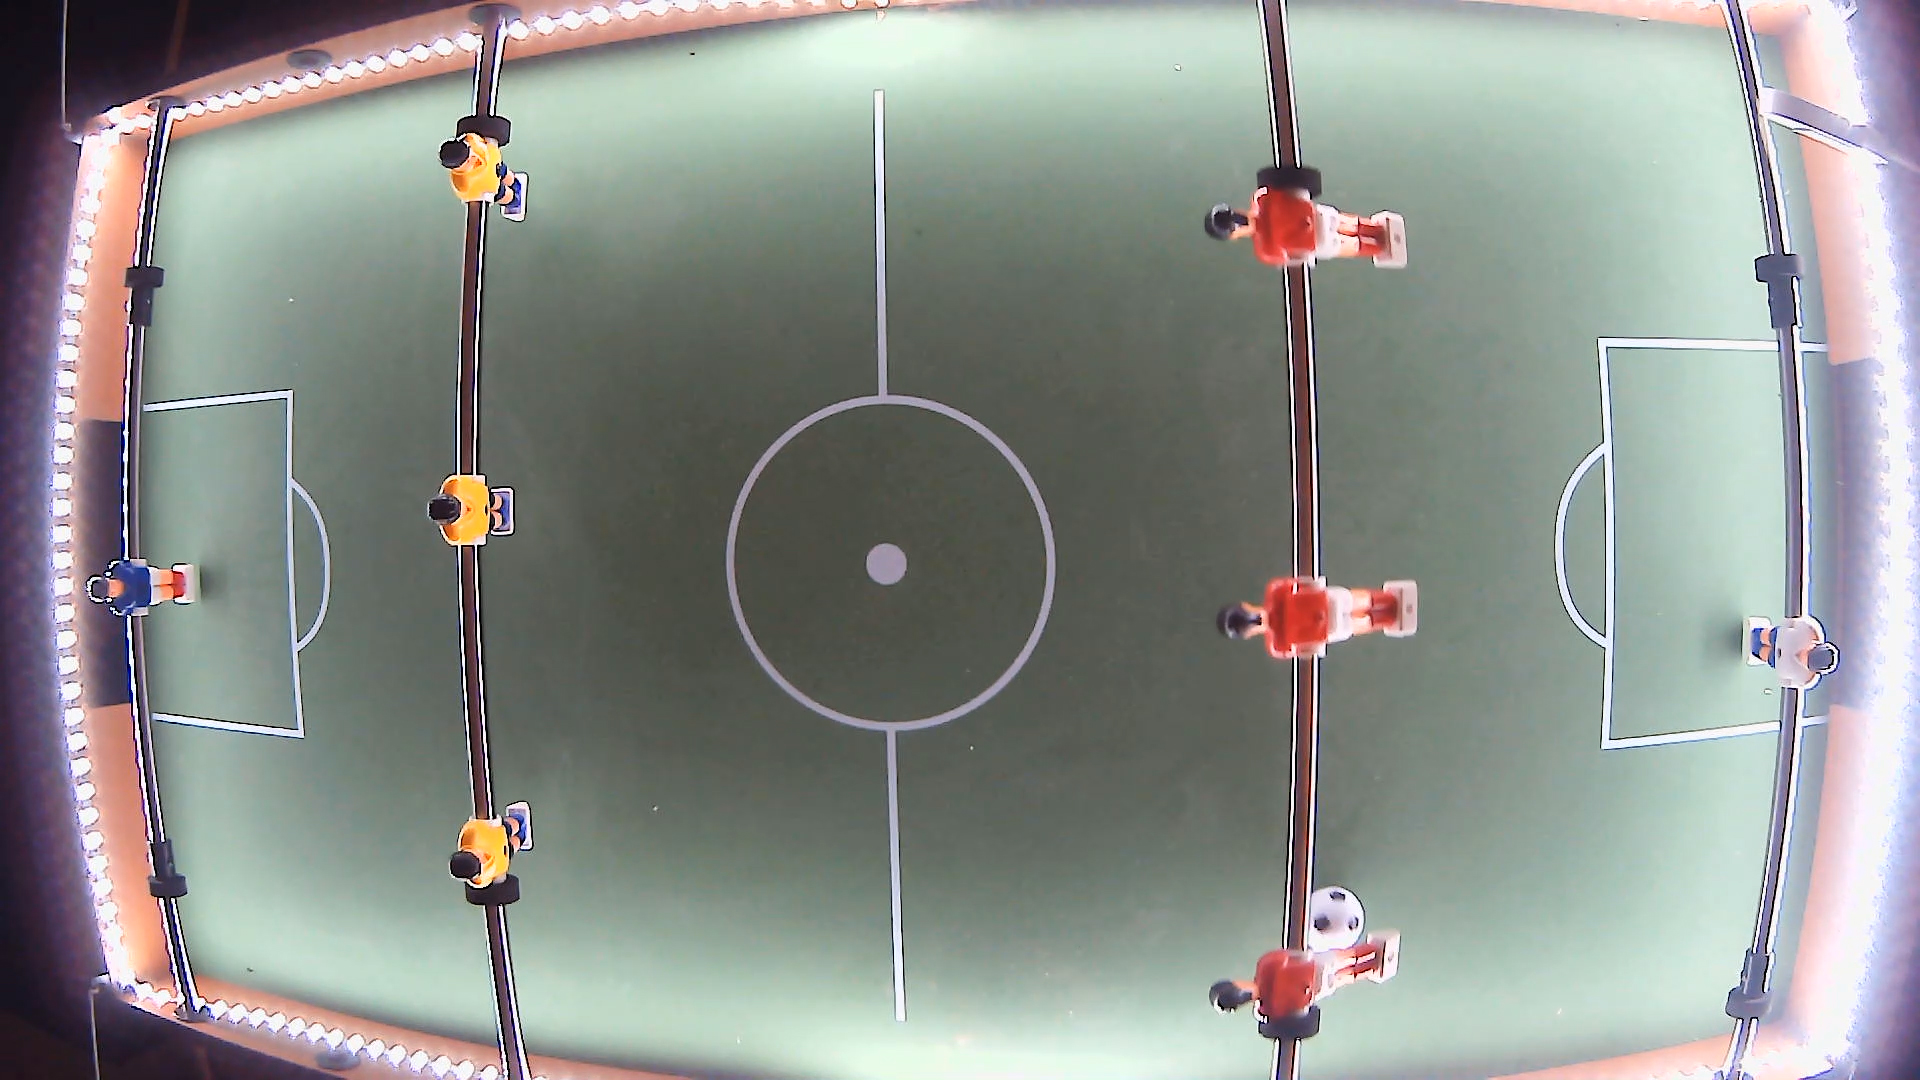Foosball: (1298, 886, 1366, 953)
